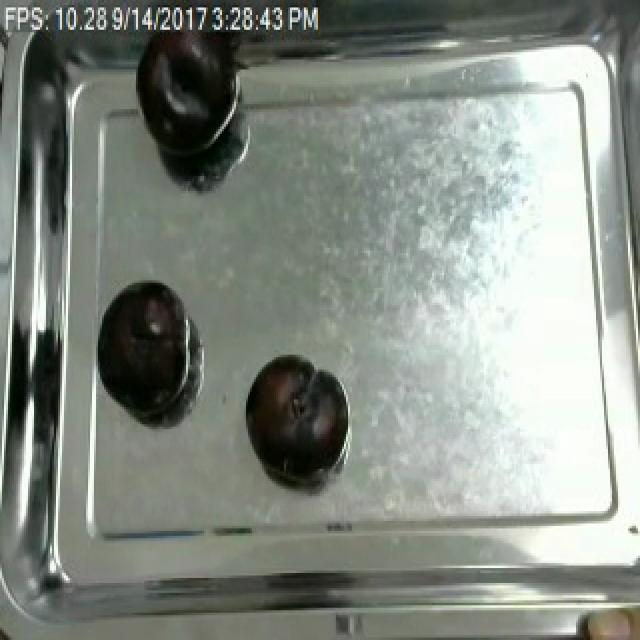Fruit: (94, 276, 192, 420), (242, 352, 342, 477), (574, 593, 640, 640)
